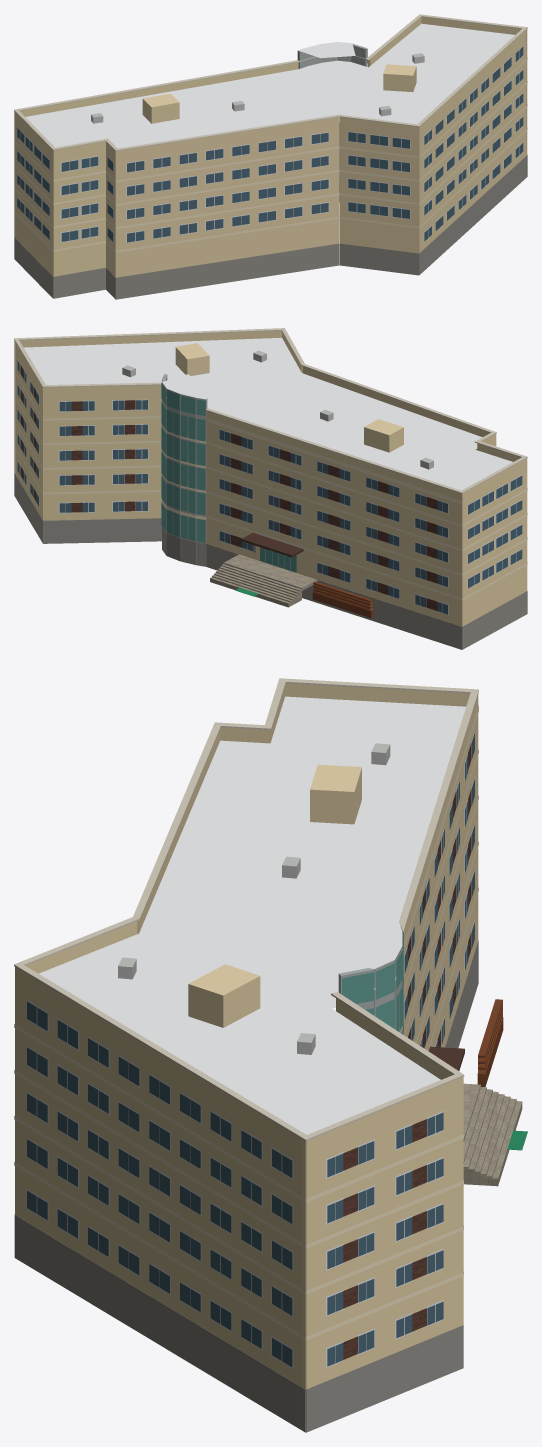
The picture shows the model from 3 angles, top to bottom: view 1: azimuth 30°, elevation 25°; view 2: azimuth 150°, elevation 25°; view 3: azimuth 270°, elevation 25°; orthographic projection. The views are drawn at different scales.
Parts seen in each view (by area): view 1: w451562709__plaster-wall, w451562709__roof, w451562709__glass, w451562709__foundation-wall, w451562709__frame, w451562709__band-wall, w451562709__coping-stone, w451562709__tower-frame, w451562709__ac; view 2: w451562709__plaster-wall, w451562709__roof, w451562709__glass, w451562709__foundation-wall, w451562709__band-wall, w451562709__tower-glass, w451562709__frame, w451562709__brick-wall, w451562709__coping-stone, w451562709__granite-stone, w451562709__tower-frame, w451562709__timber-dark (+4 smaller); view 3: w451562709__plaster-wall, w451562709__roof, w451562709__glass, w451562709__foundation-wall, w451562709__frame, w451562709__coping-stone, w451562709__band-wall, w451562709__granite-stone, w451562709__brick-wall, w451562709__tower-glass, w451562709__ac, w451562709__timber-dark (+1 smaller).
Boxes of the visible parts, x1,y1,x2,y2 form: w451562709__plaster-wall: [14, 17, 527, 277]; w451562709__roof: [25, 23, 514, 148]; w451562709__glass: [17, 47, 523, 242]; w451562709__foundation-wall: [14, 155, 527, 299]; w451562709__frame: [17, 46, 523, 243]; w451562709__band-wall: [14, 58, 527, 252]; w451562709__coping-stone: [14, 14, 527, 151]; w451562709__tower-frame: [297, 44, 367, 180]; w451562709__ac: [91, 53, 424, 123]; w451562709__plaster-wall: [14, 330, 527, 626]; w451562709__roof: [24, 337, 512, 490]; w451562709__glass: [17, 360, 522, 614]; w451562709__foundation-wall: [14, 473, 527, 649]; w451562709__band-wall: [14, 371, 527, 600]; w451562709__tower-glass: [161, 376, 205, 542]; w451562709__frame: [17, 359, 522, 615]; w451562709__brick-wall: [21, 366, 437, 610]; w451562709__coping-stone: [14, 328, 527, 493]; w451562709__granite-stone: [210, 554, 316, 607]; w451562709__tower-frame: [162, 374, 207, 543]; w451562709__timber-dark: [312, 581, 373, 618]; w451562709__plaster-wall: [15, 683, 478, 1389]; w451562709__roof: [39, 696, 465, 1134]; w451562709__glass: [27, 733, 474, 1366]; w451562709__foundation-wall: [14, 940, 480, 1432]; w451562709__frame: [26, 731, 474, 1368]; w451562709__coping-stone: [14, 678, 478, 1141]; w451562709__band-wall: [14, 705, 478, 1340]; w451562709__granite-stone: [463, 1083, 522, 1186]; w451562709__brick-wall: [343, 743, 471, 1359]; w451562709__tower-glass: [342, 926, 403, 1034]; w451562709__ac: [118, 743, 390, 1054]; w451562709__timber-dark: [477, 999, 503, 1086].
Bounding box in the file's own units: 73.28 × 23.13 × 34.49.
Materials: 18 (2 with a texture image).
